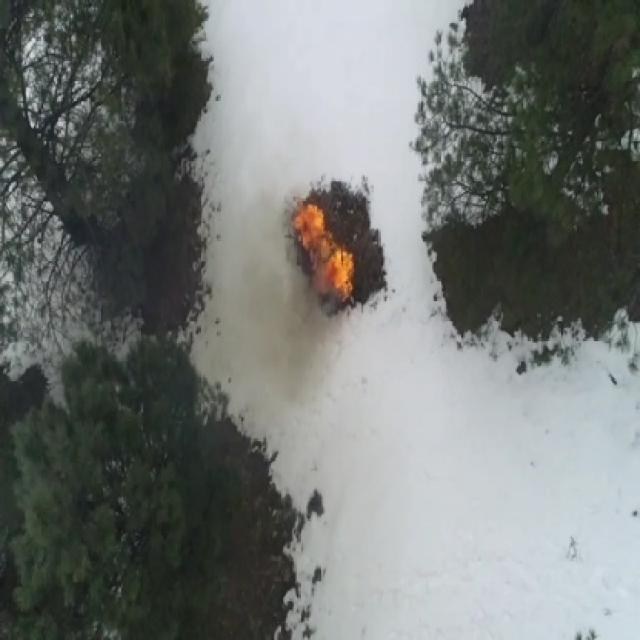Fire: (313, 252, 354, 302), (296, 205, 328, 251), (323, 234, 337, 254)
